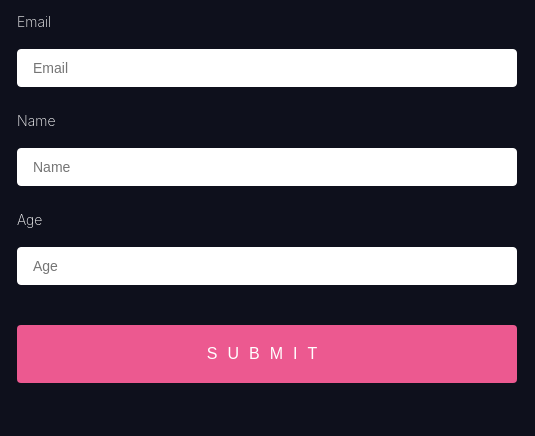
Test case: test email input › should show error when email field is empty
Type "ab" into the field with placeholder "Email" at point(267, 68), box [17,49,517,87]
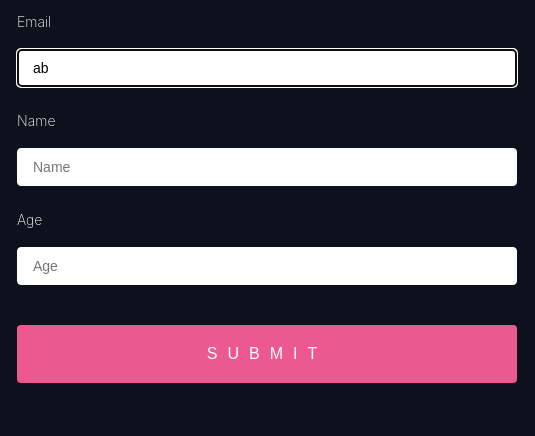
// Clicking on this component makes it active
Clear the field with placeholder "Email" at point(267, 68), box [17,49,517,87]
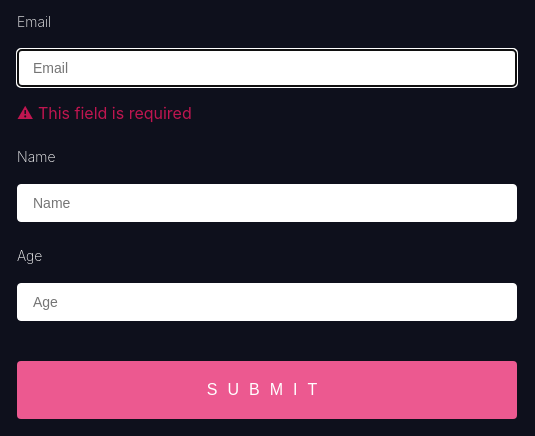
Check: the text "This field is required" is shown, box [38,103,192,123]
